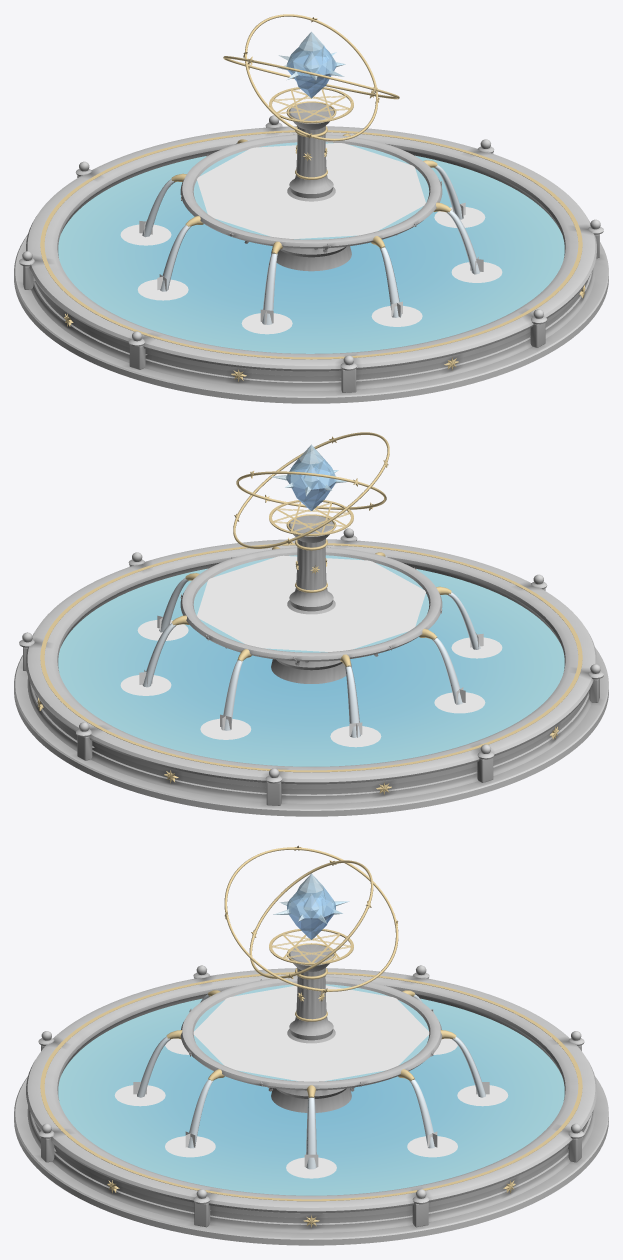
File: fountain_hq.glb
The picture shows the model from 3 angles, top to bottom: view 1: azimuth 30°, elevation 25°; view 2: azimuth 150°, elevation 25°; view 3: azimuth 270°, elevation 25°; orthographic projection.
Visible parts, largest first — view 1: WishFountain_stone, WishFountain_water, WishFountain_fx, WishFountain_gold, WishFountain_foam, WishFountain_falls, WishFountain_crystal; view 2: WishFountain_stone, WishFountain_water, WishFountain_fx, WishFountain_gold, WishFountain_foam, WishFountain_falls, WishFountain_crystal; view 3: WishFountain_stone, WishFountain_water, WishFountain_fx, WishFountain_gold, WishFountain_foam, WishFountain_falls, WishFountain_crystal.
Boxes of the visible parts, bbox=[...] form: WishFountain_stone: bbox=[14, 102, 608, 403]; WishFountain_water: bbox=[58, 142, 564, 353]; WishFountain_fx: bbox=[139, 143, 483, 324]; WishFountain_gold: bbox=[40, 14, 585, 381]; WishFountain_foam: bbox=[120, 207, 502, 334]; WishFountain_falls: bbox=[142, 143, 480, 324]; WishFountain_crystal: bbox=[277, 31, 345, 98]; WishFountain_stone: bbox=[14, 515, 608, 816]; WishFountain_water: bbox=[58, 555, 564, 766]; WishFountain_fx: bbox=[139, 555, 483, 737]; WishFountain_gold: bbox=[37, 432, 582, 794]; WishFountain_foam: bbox=[120, 620, 502, 747]; WishFountain_falls: bbox=[142, 556, 480, 737]; WishFountain_crystal: bbox=[270, 444, 347, 510]; WishFountain_stone: bbox=[14, 944, 608, 1245]; WishFountain_water: bbox=[58, 984, 564, 1195]; WishFountain_fx: bbox=[133, 985, 489, 1166]; WishFountain_gold: bbox=[40, 845, 582, 1227]; WishFountain_foam: bbox=[114, 1038, 508, 1178]; WishFountain_falls: bbox=[137, 994, 485, 1169]; WishFountain_crystal: bbox=[273, 873, 349, 939].
Bounding box in the file's own units: 14 × 6.4 × 14.
